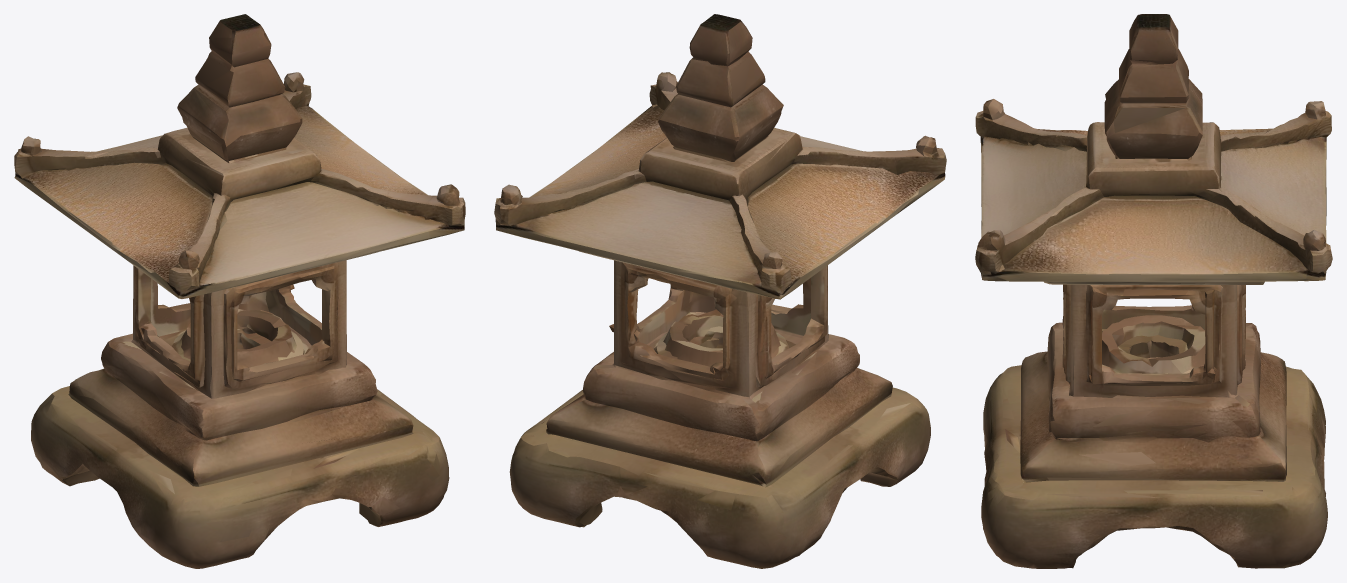
Rendered from balanced.glb.
The picture shows the model from 3 angles, left to right: view 1: azimuth 30°, elevation 25°; view 2: azimuth 150°, elevation 25°; view 3: azimuth 270°, elevation 25°; orthographic projection. The views are drawn at different scales.
Visible parts, largest first — view 1: triposg_painted_00001__Retopo; view 2: triposg_painted_00001__Retopo; view 3: triposg_painted_00001__Retopo.
Boxes of the visible parts, x1=… form: triposg_painted_00001__Retopo: x1=14, y1=14, x2=465, y2=568; triposg_painted_00001__Retopo: x1=494, y1=14, x2=946, y2=568; triposg_painted_00001__Retopo: x1=975, y1=14, x2=1332, y2=568.
Bounding box in the file's own units: 1.24 × 1.87 × 1.25.
1 material, 1 textured.
